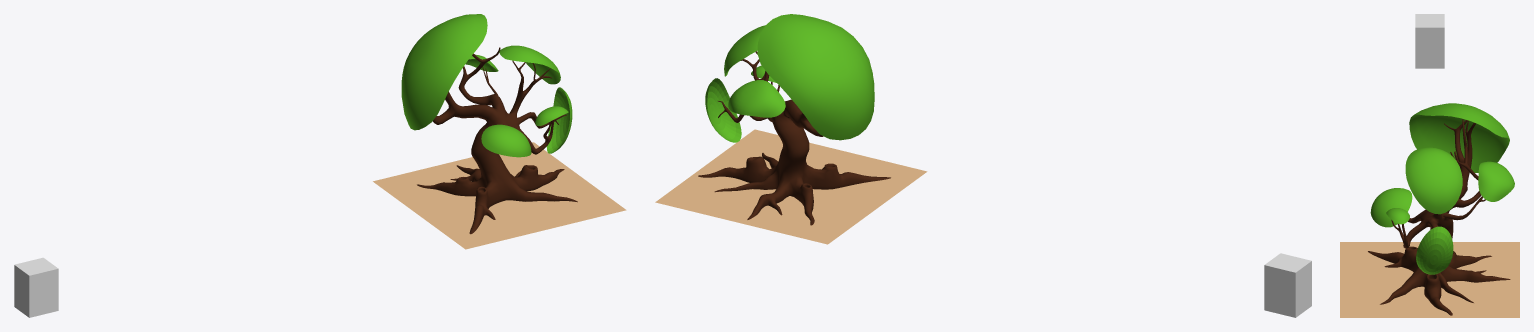
Rendered from Hub_Tree.glb.
3 views of the same model, side by side, from view 1: azimuth 30°, elevation 25°; view 2: azimuth 150°, elevation 25°; view 3: azimuth 270°, elevation 25° (orthographic). The views are drawn at different scales.
Parts seen in each view (by area): view 1: Ground_col, Leaves, Trunk_col, Cube; view 2: Leaves, Ground_col, Trunk_col, Cube; view 3: Leaves, Ground_col, Trunk_col, Cube.
Boxes of the visible parts, x1,y1,x2,y2 form: Ground_col: (373, 142, 626, 249); Leaves: (401, 14, 572, 157); Trunk_col: (417, 47, 577, 234); Cube: (14, 257, 58, 317); Leaves: (705, 14, 874, 142); Ground_col: (655, 129, 927, 244); Trunk_col: (698, 51, 890, 225); Cube: (1264, 253, 1311, 317); Leaves: (1370, 103, 1514, 274); Ground_col: (1340, 242, 1519, 317); Trunk_col: (1368, 119, 1510, 315); Cube: (1415, 14, 1444, 68).
Bounding box in the file's own units: 27.72 × 8.24 × 8.
